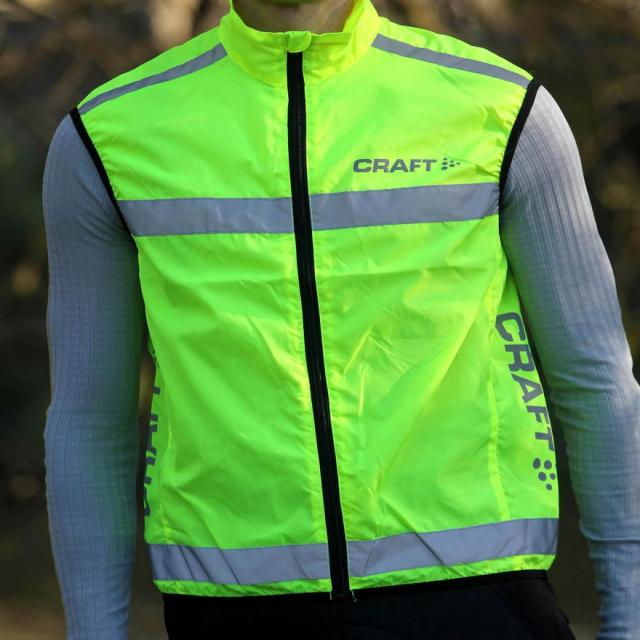Reflective-Jacket: (40, 0, 604, 640)
